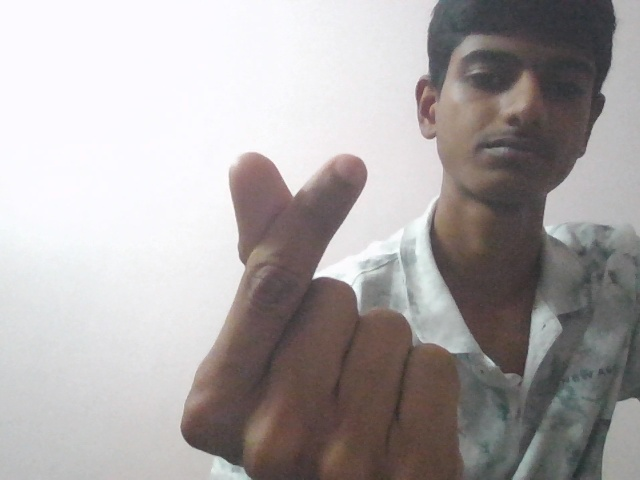iloveyou: (160, 138, 472, 480)
